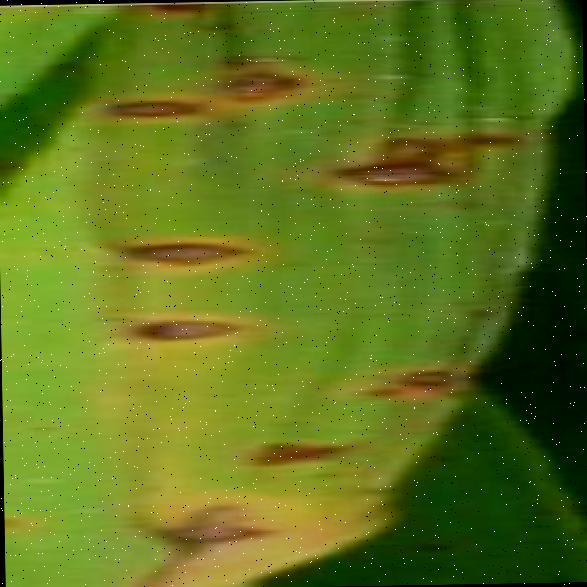Brown_Spot: (90, 298, 265, 358), (320, 145, 478, 203), (103, 222, 260, 278), (228, 425, 374, 479), (127, 509, 288, 555), (74, 84, 218, 130), (200, 64, 320, 109), (451, 109, 544, 160), (367, 122, 462, 171), (382, 356, 482, 401), (205, 40, 323, 73), (338, 376, 405, 408), (406, 532, 460, 558), (412, 442, 461, 470), (132, 2, 224, 16), (20, 415, 63, 435), (4, 504, 24, 541)
